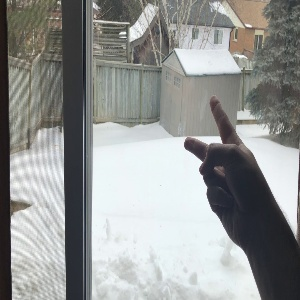hand: (185, 96, 275, 240)
